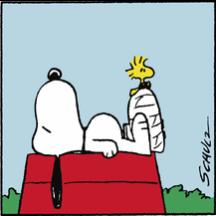snoopy: (31, 64, 167, 210)
